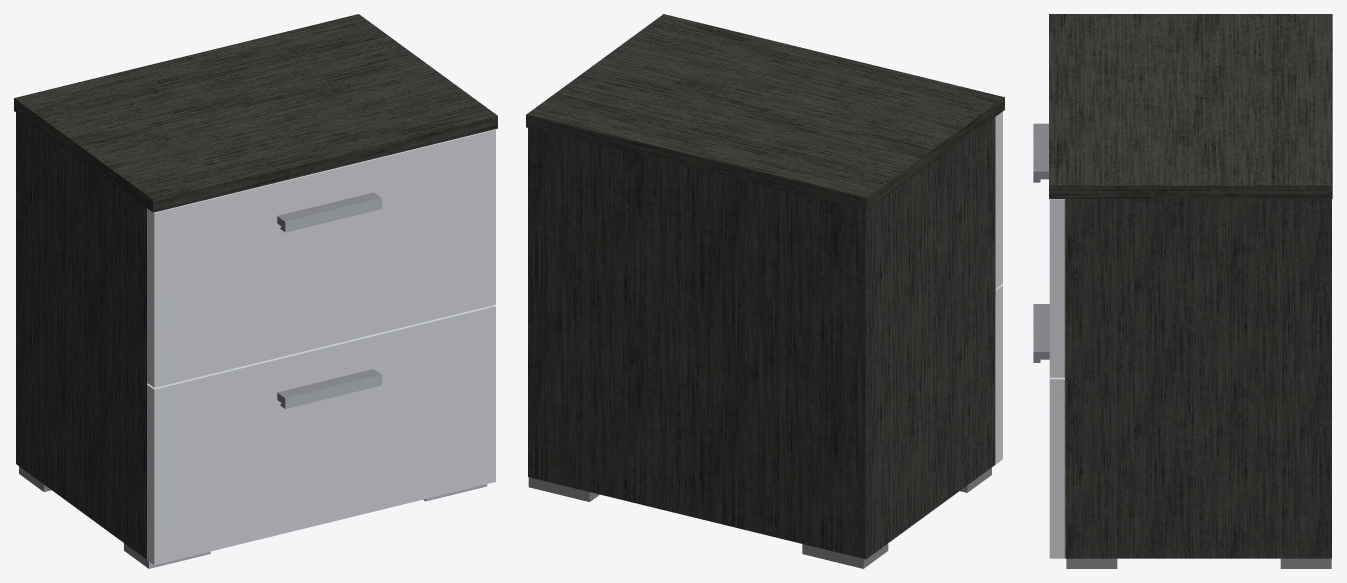
File: side_table_abo_B07GFG117Y.glb
The picture shows the model from 3 angles, left to right: view 1: azimuth 30°, elevation 25°; view 2: azimuth 150°, elevation 25°; view 3: azimuth 270°, elevation 25°; orthographic projection. The views are drawn at different scales.
Parts seen in each view (by area): view 1: RootNode; view 2: RootNode; view 3: RootNode.
Part boxes in pixels (bbox=[...]): RootNode: bbox=[14, 14, 497, 568]; RootNode: bbox=[526, 14, 1004, 568]; RootNode: bbox=[1033, 14, 1332, 568].
Size of the model in its own units: 0.4411 by 0.4603 by 0.325.
Materials: 1 (1 with a texture image).
